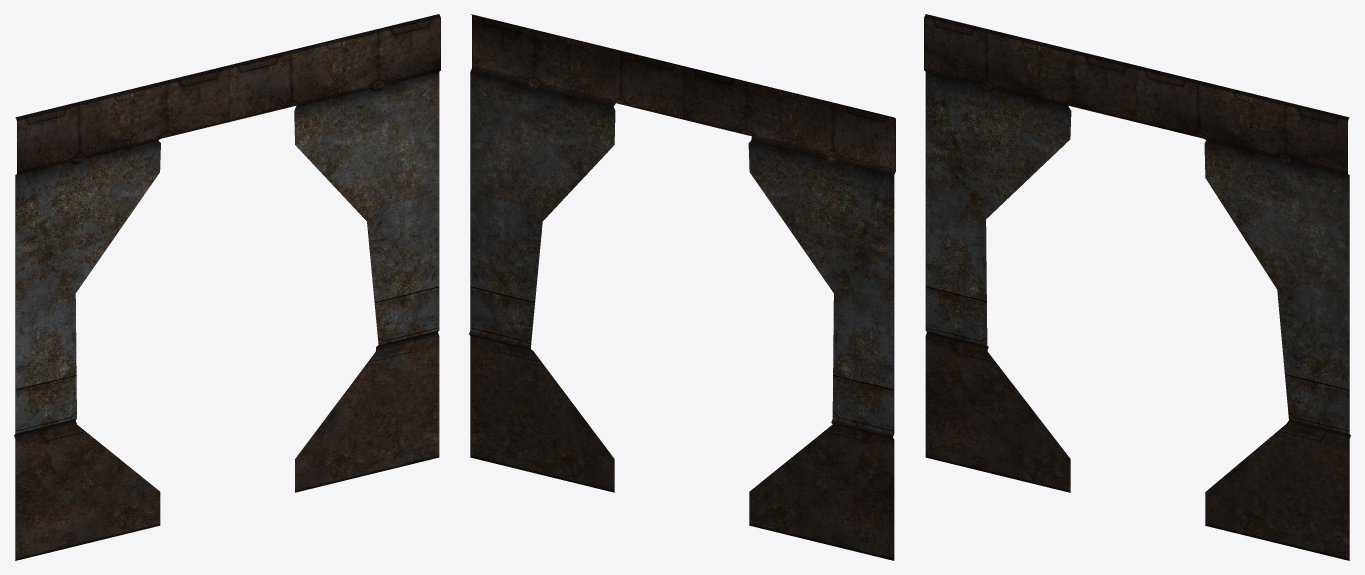
Rendered from datasite_flat_doorway_airlock_brown_overgrown.dae.
3 renders of one model, left to right at view 1: azimuth 30°, elevation 25°; view 2: azimuth 150°, elevation 25°; view 3: azimuth 330°, elevation 25°, orthographic.
Parts seen in each view (by area): view 1: polySurface134; view 2: polySurface134; view 3: polySurface134.
Part boxes in pixels (x1,y1,x2,y2): polySurface134: (14,14,440,560); polySurface134: (469,14,895,560); polySurface134: (924,14,1350,560).
Bounding box in the file's own units: 4 × 4 × 0.0483.
